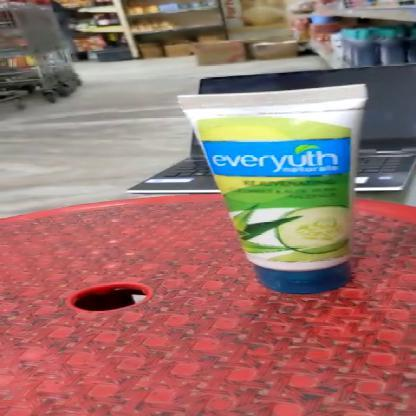EY RJ CUCUMBER ALOEVERA FACEPAK50G: (183, 88, 384, 292)
